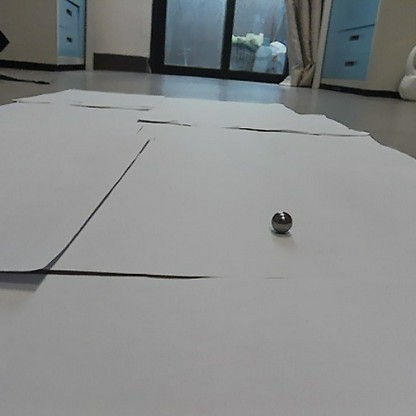ironball: (269, 209, 294, 236)
